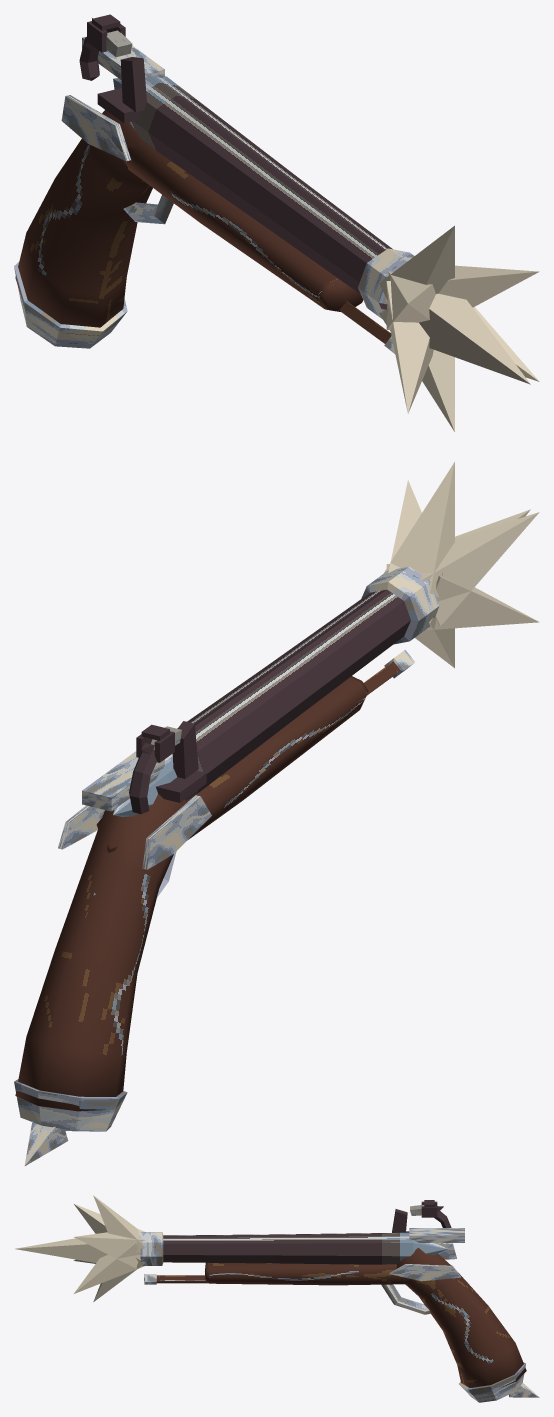
The model's file is pistol.glb.
The picture shows the model from 3 angles, top to bottom: view 1: azimuth 30°, elevation 25°; view 2: azimuth 150°, elevation 25°; view 3: azimuth 270°, elevation 25°; orthographic projection. The views are drawn at different scales.
Parts seen in each view (by area): view 1: stock, barrel, flash, fittings, cock; view 2: stock, barrel, fittings, flash, cock; view 3: stock, barrel, flash, fittings, cock.
Boxes of the visible parts, x1,y1,x2,y2 form: stock: [15, 110, 362, 335]; barrel: [113, 75, 414, 319]; flash: [379, 225, 539, 431]; fittings: [14, 36, 395, 353]; cock: [79, 14, 132, 80]; stock: [15, 676, 368, 1111]; barrel: [113, 566, 439, 816]; fittings: [14, 649, 414, 1165]; flash: [383, 462, 539, 668]; cock: [129, 724, 181, 814]; stock: [205, 1248, 526, 1388]; barrel: [140, 1232, 447, 1265]; flash: [15, 1195, 145, 1301]; fittings: [144, 1209, 539, 1402]; cock: [410, 1200, 451, 1227].
Bounding box in the file's own units: 0.072 × 0.2036 × 0.4788.
1 material, 1 textured.
